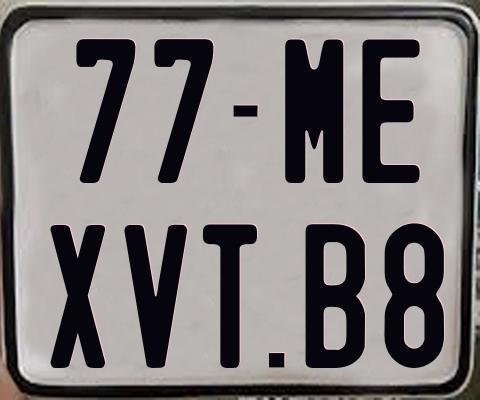7: (74, 39, 135, 189), (152, 39, 211, 185)
8: (381, 223, 444, 372)
B: (304, 223, 369, 368)
E: (360, 36, 418, 185)
M: (283, 36, 346, 186)
T: (203, 224, 263, 368)
V: (124, 223, 189, 369)
X: (49, 222, 106, 367)
